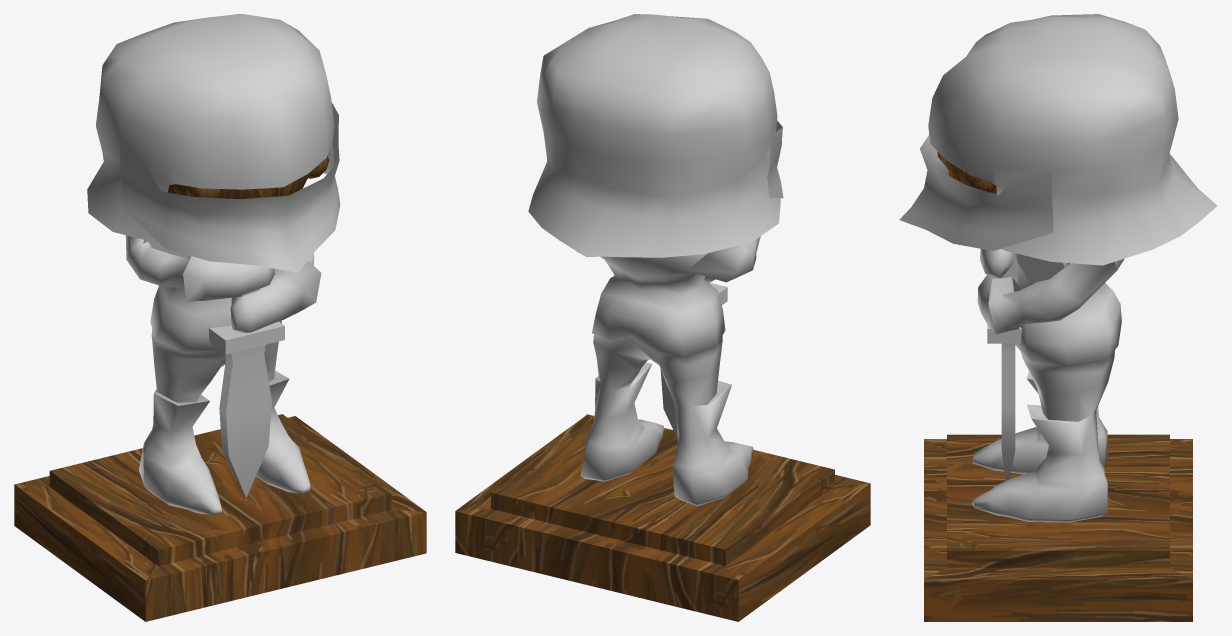
File: e_asset_armor_sword.fbx
3 views of the same model, side by side, from view 1: azimuth 30°, elevation 25°; view 2: azimuth 150°, elevation 25°; view 3: azimuth 270°, elevation 25° (orthographic). The views are drawn at different scales.
Visible parts, largest first — view 1: polySurface3222; view 2: polySurface3222; view 3: polySurface3222.
Part boxes in pixels (box(x1,y1,x2,y2)): polySurface3222: box(14, 14, 426, 621); polySurface3222: box(455, 14, 870, 621); polySurface3222: box(899, 14, 1217, 621).
Size of the model in its own units: 0.4919 by 0.8365 by 0.4712.
